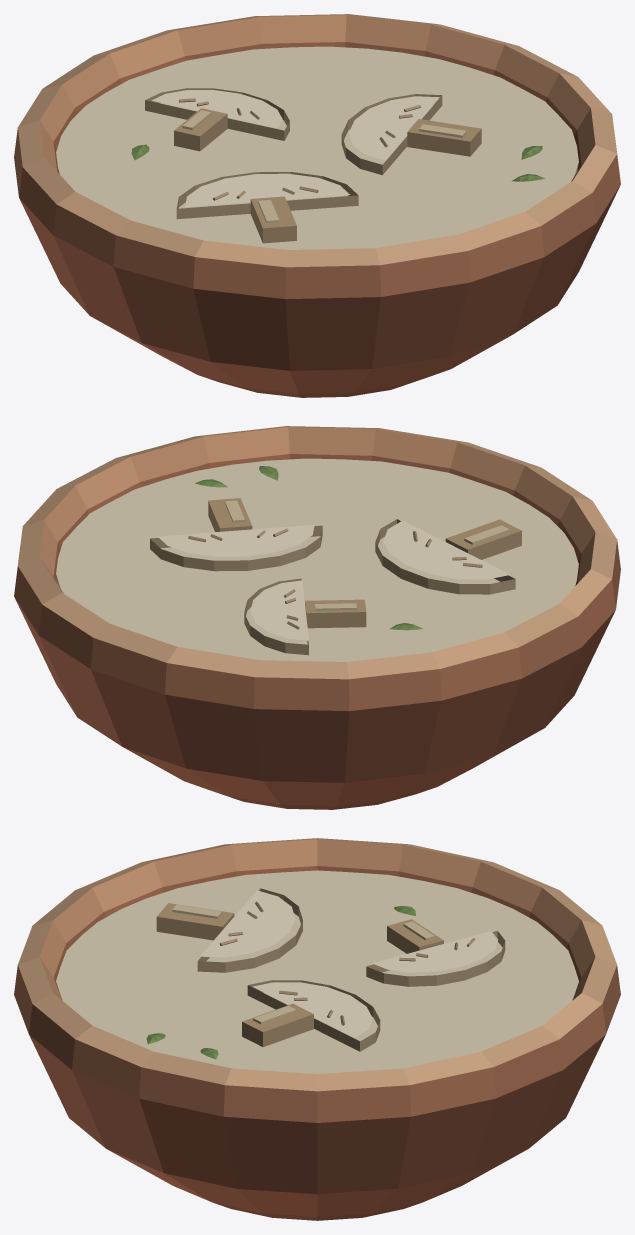
The model's file is soup_mushroom.glb.
3 views of the same model, one above another, from view 1: azimuth 30°, elevation 25°; view 2: azimuth 150°, elevation 25°; view 3: azimuth 270°, elevation 25° (orthographic).
Parts seen in each view (by area): view 1: 赭陶碗奶白蘑菇浓汤; view 2: 赭陶碗奶白蘑菇浓汤; view 3: 赭陶碗奶白蘑菇浓汤.
Boxes of the visible parts, <box> form: 赭陶碗奶白蘑菇浓汤: <box>14,14,620,397</box>; 赭陶碗奶白蘑菇浓汤: <box>14,426,620,809</box>; 赭陶碗奶白蘑菇浓汤: <box>14,838,620,1220</box>.
Size of the model in its own units: 0.476 by 0.175 by 0.476.
